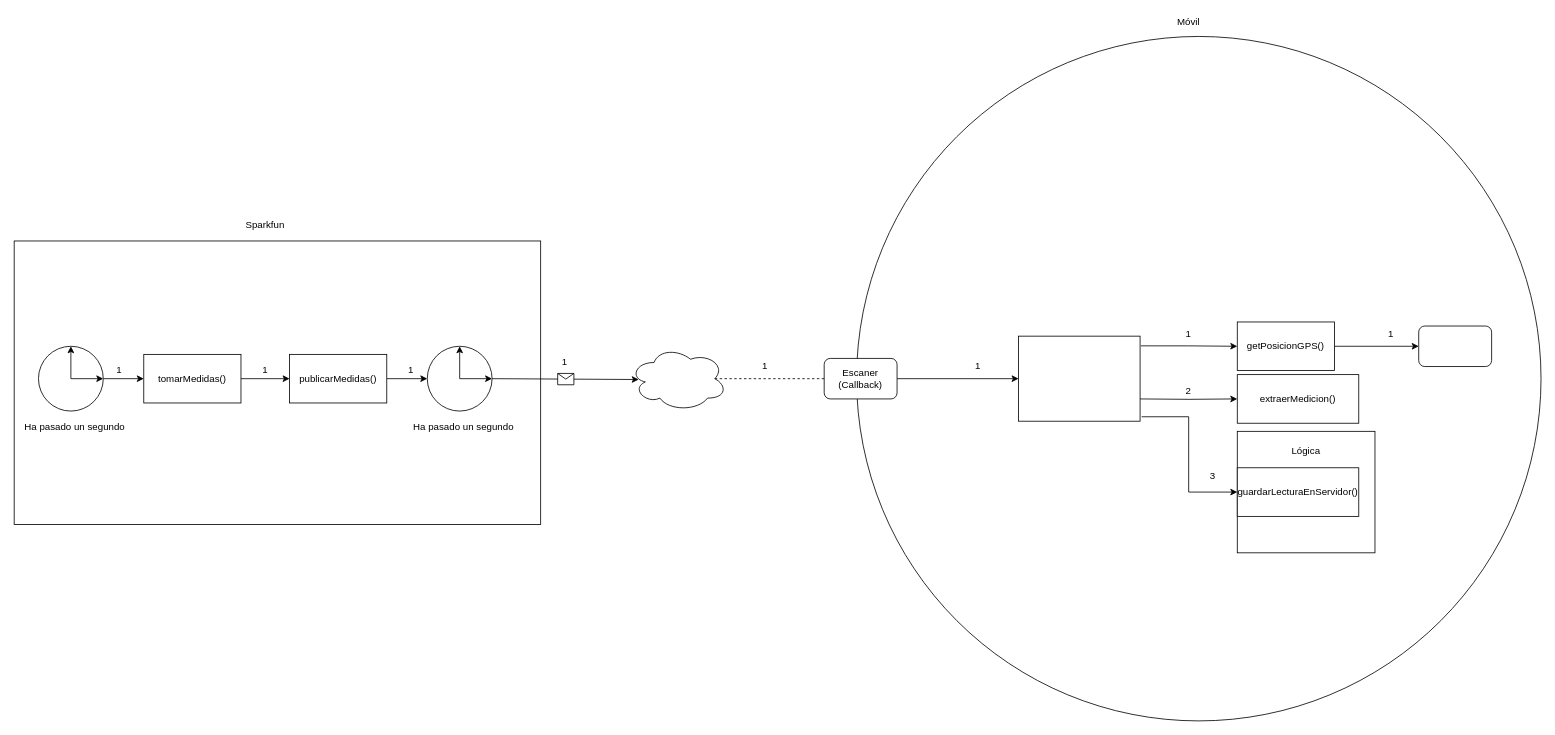
Some shapes in this 1555 by 735 pixel diagram are drawn without their labels. Each missing label, with the centre of its shape:
Geolocalizacion (Callback): point 1455,346
haLlegadoUnBeacon(): point 1079,378
Medidas (Beacon): point 678,378
